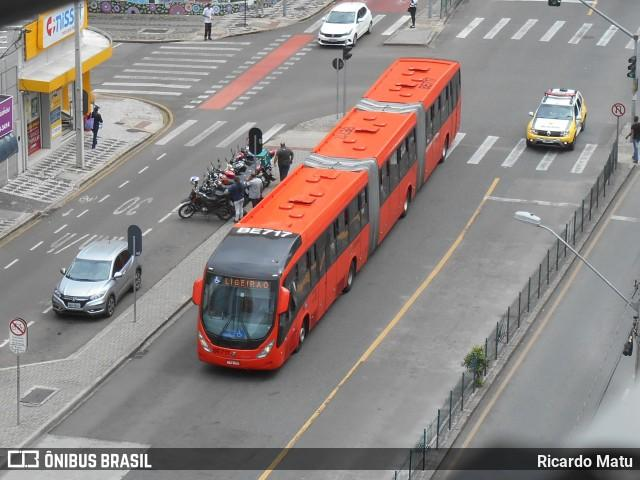LIGEIRAO: (221, 275, 272, 292)
